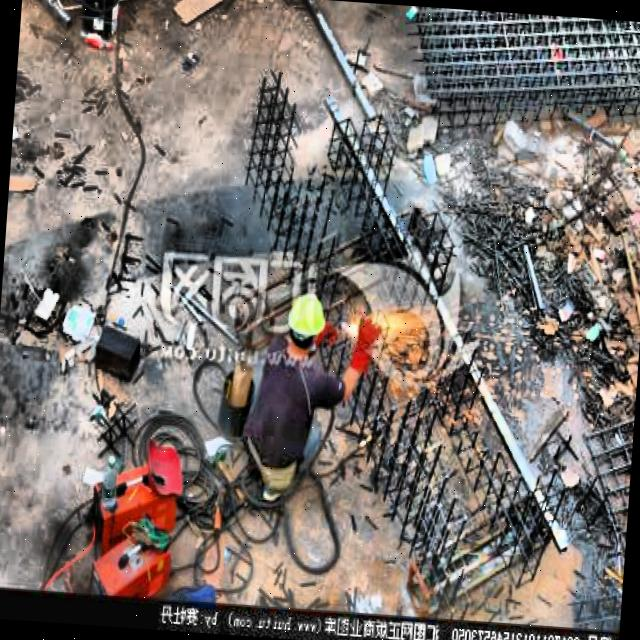helmet: (282, 288, 332, 352)
